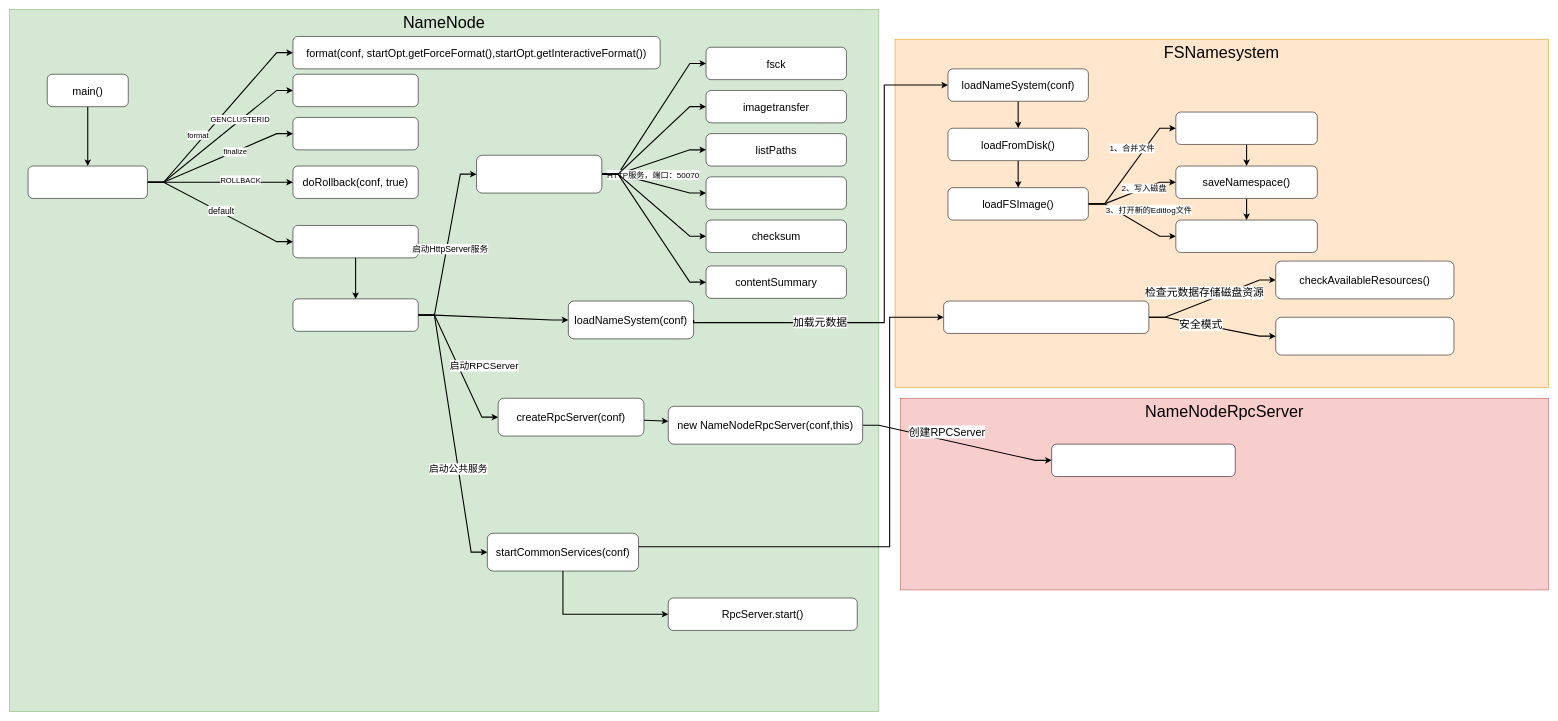
Image size: 1558x721. Some labels were removed from this diagram. Each missing label, with the centre of its shape:
createNameNode(): the point at 87,182
data: the point at 776,192
initialize(conf): the point at 355,314
new NameNode(conf): the point at 355,241
new RPC.builder(): the point at 1143,460
openEditLogForWrite(): the point at 1246,236
recoverTransitionRead(): the point at 1246,128
setBlockTotal(): the point at 1364,336
startCommonServices(conf,haContext): the point at 1046,317
startHttpServer(conf): the point at 539,174
